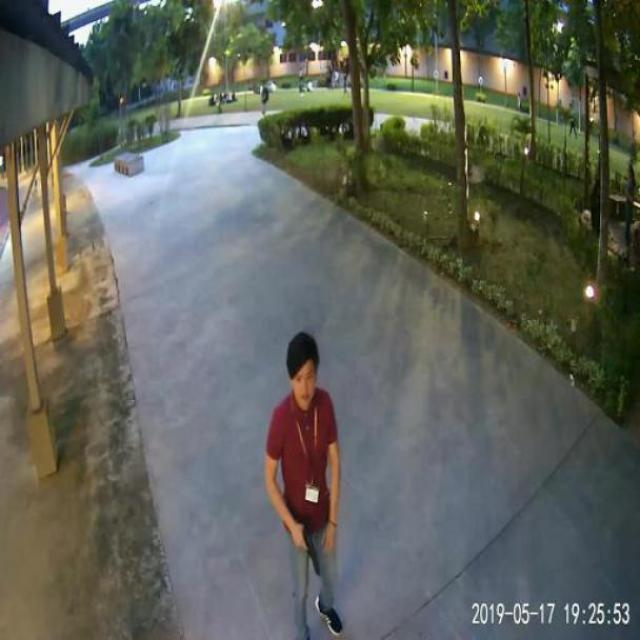Gun: (288, 525, 327, 585)
